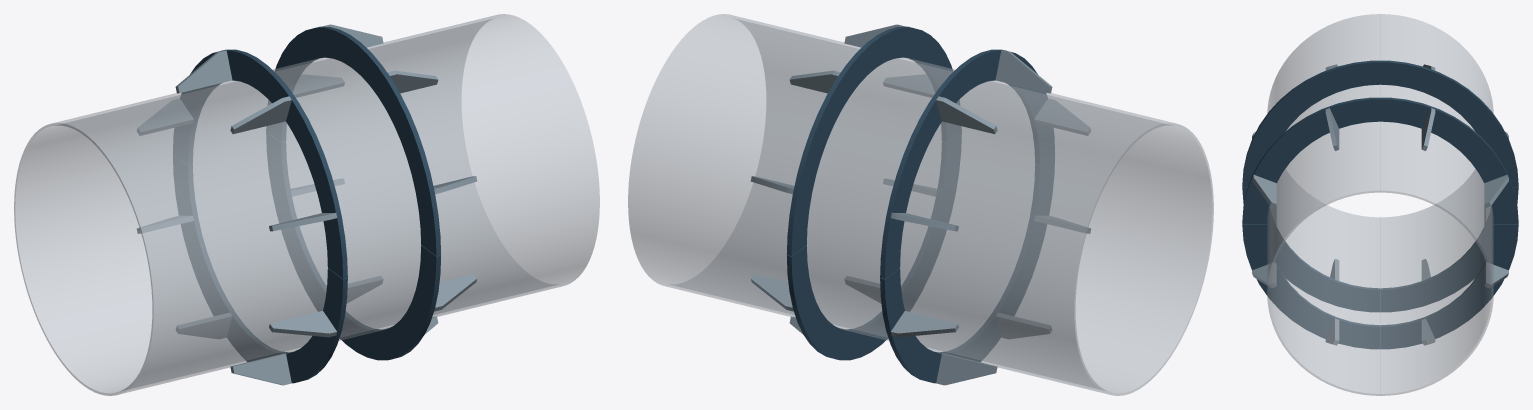
File: TS-666.00.00-14-opora-dn820-D1000.glb
3 renders of one model, left to right at view 1: azimuth 30°, elevation 25°; view 2: azimuth 150°, elevation 25°; view 3: azimuth 270°, elevation 25°, orthographic. The views are drawn at different scales.
Visible parts, largest first — view 1: truba, polukoltso_1, polukoltso_11, polukoltso_16, polukoltso_6, rebro_8, rebro_18, rebro_17, rebro_9, rebro_7, rebro_19, rebro_12 (+3 smaller); view 2: truba, polukoltso_1, polukoltso_11, polukoltso_16, polukoltso_6, rebro_9, rebro_19, rebro_20, rebro_8, rebro_10, rebro_18, rebro_15 (+3 smaller); view 3: truba, polukoltso_1, polukoltso_6, polukoltso_11, polukoltso_16, rebro_2, rebro_5, rebro_12, rebro_15, rebro_3, rebro_4, rebro_13 (+1 smaller).
Boxes of the visible parts, left/top/right/bottom form: truba: left=14, top=14, right=599, bottom=395; polukoltso_1: left=266, top=26, right=440, bottom=255; polukoltso_11: left=266, top=132, right=440, bottom=360; polukoltso_16: left=173, top=155, right=347, bottom=383; polukoltso_6: left=173, top=49, right=347, bottom=278; rebro_8: left=175, top=50, right=232, bottom=93; rebro_18: left=230, top=353, right=291, bottom=385; rebro_17: left=269, top=311, right=336, bottom=337; rebro_9: left=230, top=96, right=291, bottom=134; rebro_7: left=137, top=99, right=193, bottom=135; rebro_19: left=176, top=313, right=231, bottom=338; rebro_12: left=434, top=274, right=477, bottom=311; truba: left=628, top=14, right=1213, bottom=395; polukoltso_1: left=787, top=26, right=961, bottom=255; polukoltso_11: left=787, top=132, right=961, bottom=360; polukoltso_16: left=880, top=155, right=1054, bottom=383; polukoltso_6: left=880, top=49, right=1054, bottom=278; rebro_9: left=995, top=50, right=1052, bottom=93; rebro_19: left=936, top=353, right=997, bottom=385; rebro_20: left=891, top=311, right=958, bottom=337; rebro_8: left=936, top=96, right=997, bottom=134; rebro_10: left=1034, top=99, right=1090, bottom=135; rebro_18: left=996, top=313, right=1051, bottom=338; rebro_15: left=750, top=274, right=793, bottom=311; truba: left=1267, top=14, right=1493, bottom=395; polukoltso_1: left=1242, top=97, right=1518, bottom=223; polukoltso_6: left=1242, top=60, right=1518, bottom=187; polukoltso_11: left=1242, top=224, right=1518, bottom=349; polukoltso_16: left=1242, top=187, right=1518, bottom=312; rebro_2: left=1484, top=175, right=1508, bottom=207; rebro_5: left=1252, top=175, right=1276, bottom=207; rebro_12: left=1252, top=262, right=1276, bottom=288; rebro_15: left=1484, top=262, right=1508, bottom=288; rebro_3: left=1421, top=108, right=1435, bottom=150; rebro_4: left=1325, top=108, right=1339, bottom=150; rebro_13: left=1325, top=318, right=1339, bottom=345.
Size of the model in its own units: 1512 by 998 by 1000.
